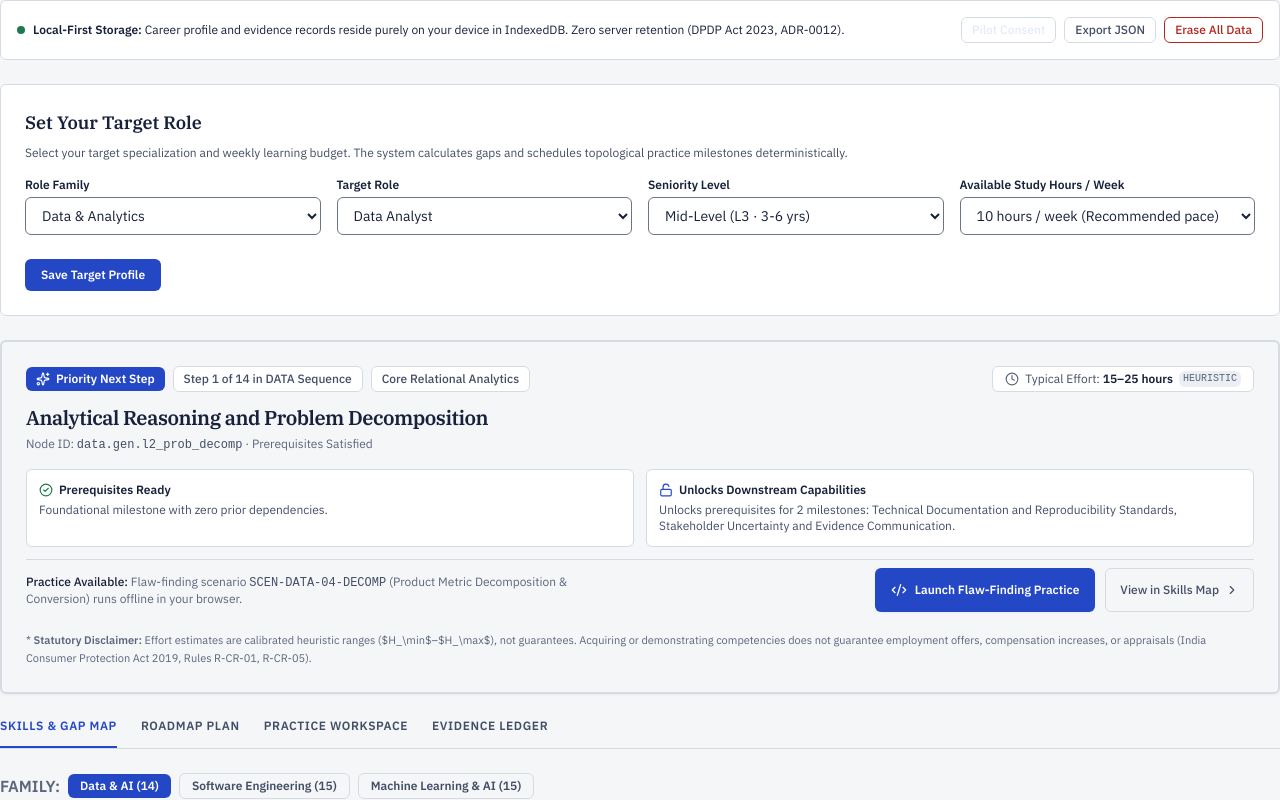
Test: CareerRoute (T15.28 Career Architect View) › supports configuring and saving a Software Engineering (SWE) target profile
Expected: the heading "Set Your Target Role" is shown, [25,111,202,134]
Select SWE family
Select "Software Engineering" in the dropdown labelled "Role Family" at coordinates (173, 216), box [25,197,320,235]
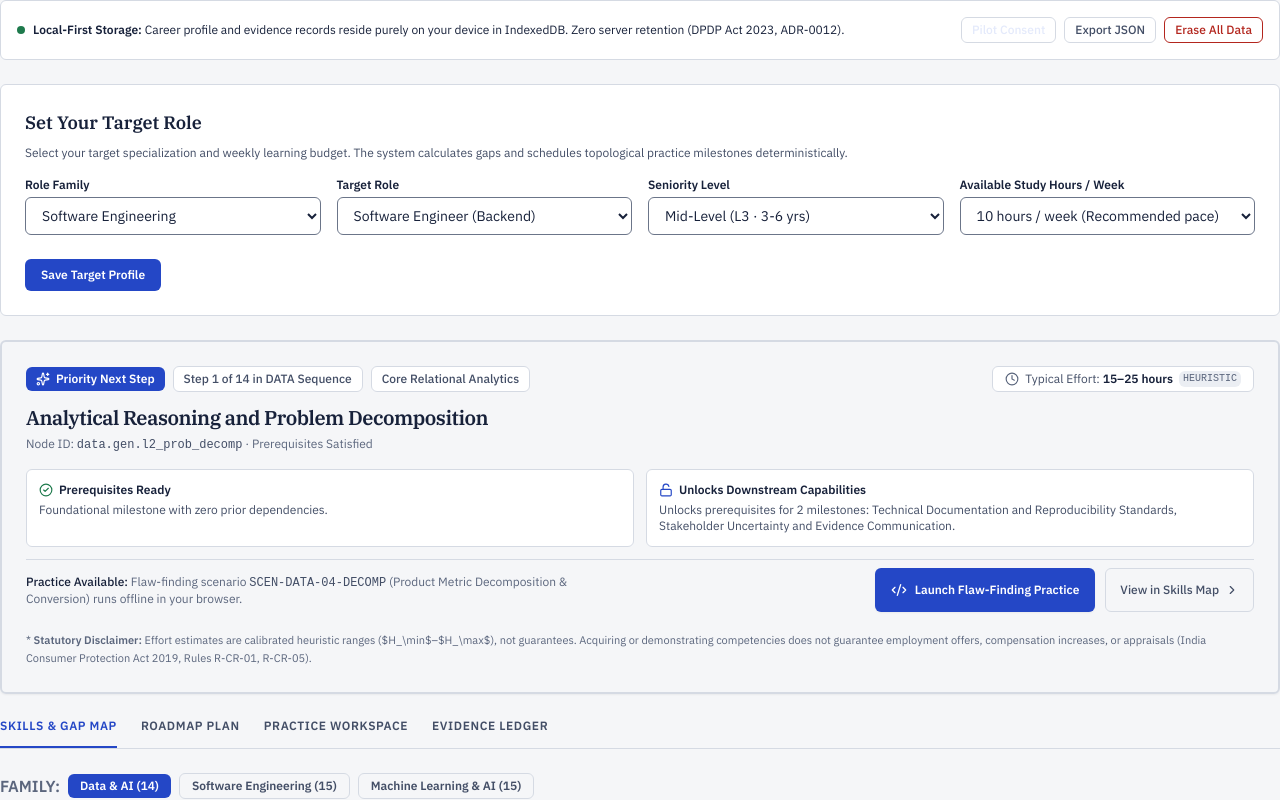
Select Backend role
Select "Software Engineer (Backend)" in the dropdown labelled "Target Role" at coordinates (484, 216), box [336,197,632,235]
Submit form
Click the button "Save Target Profile".
click(93, 275)  # box [25,259,161,291]
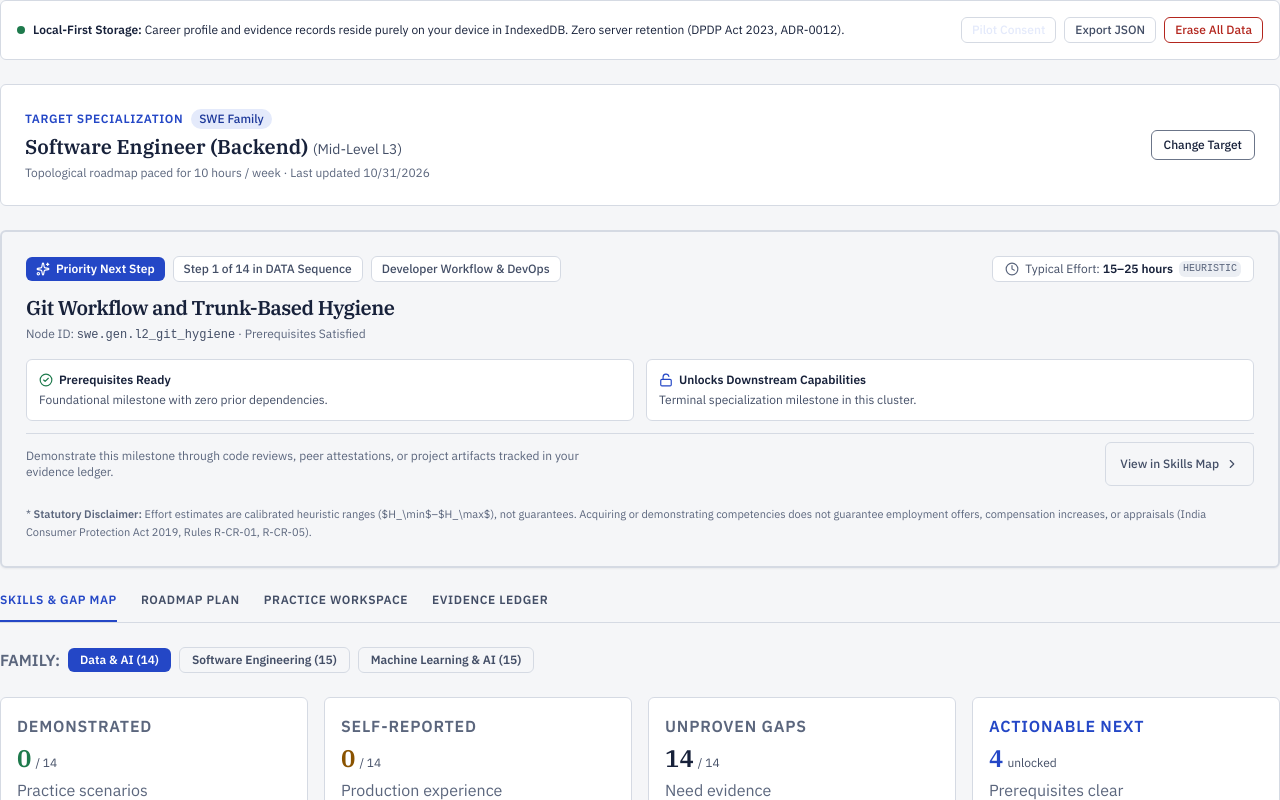
Expected: the text "SWE Family" is shown, [191,109,272,129]
Expected: the heading "Software Engineer (Backend) (Mid-Level L3)" is shown, [25,133,430,161]
